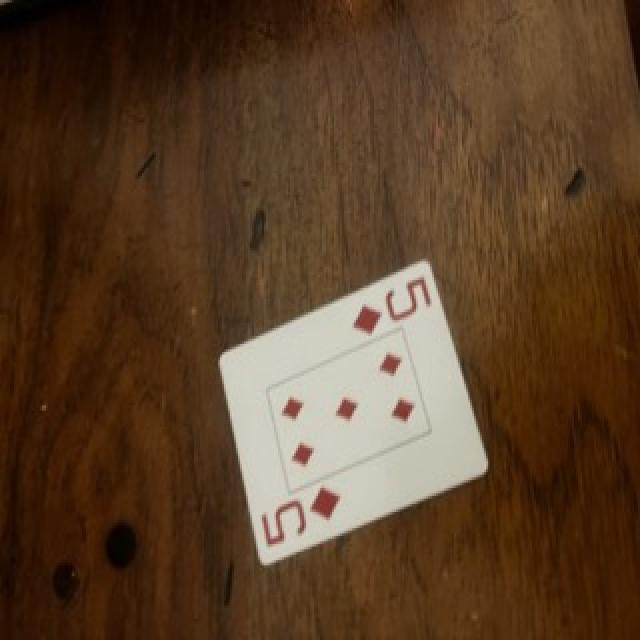5 of diamonds: (220, 260, 488, 565)
